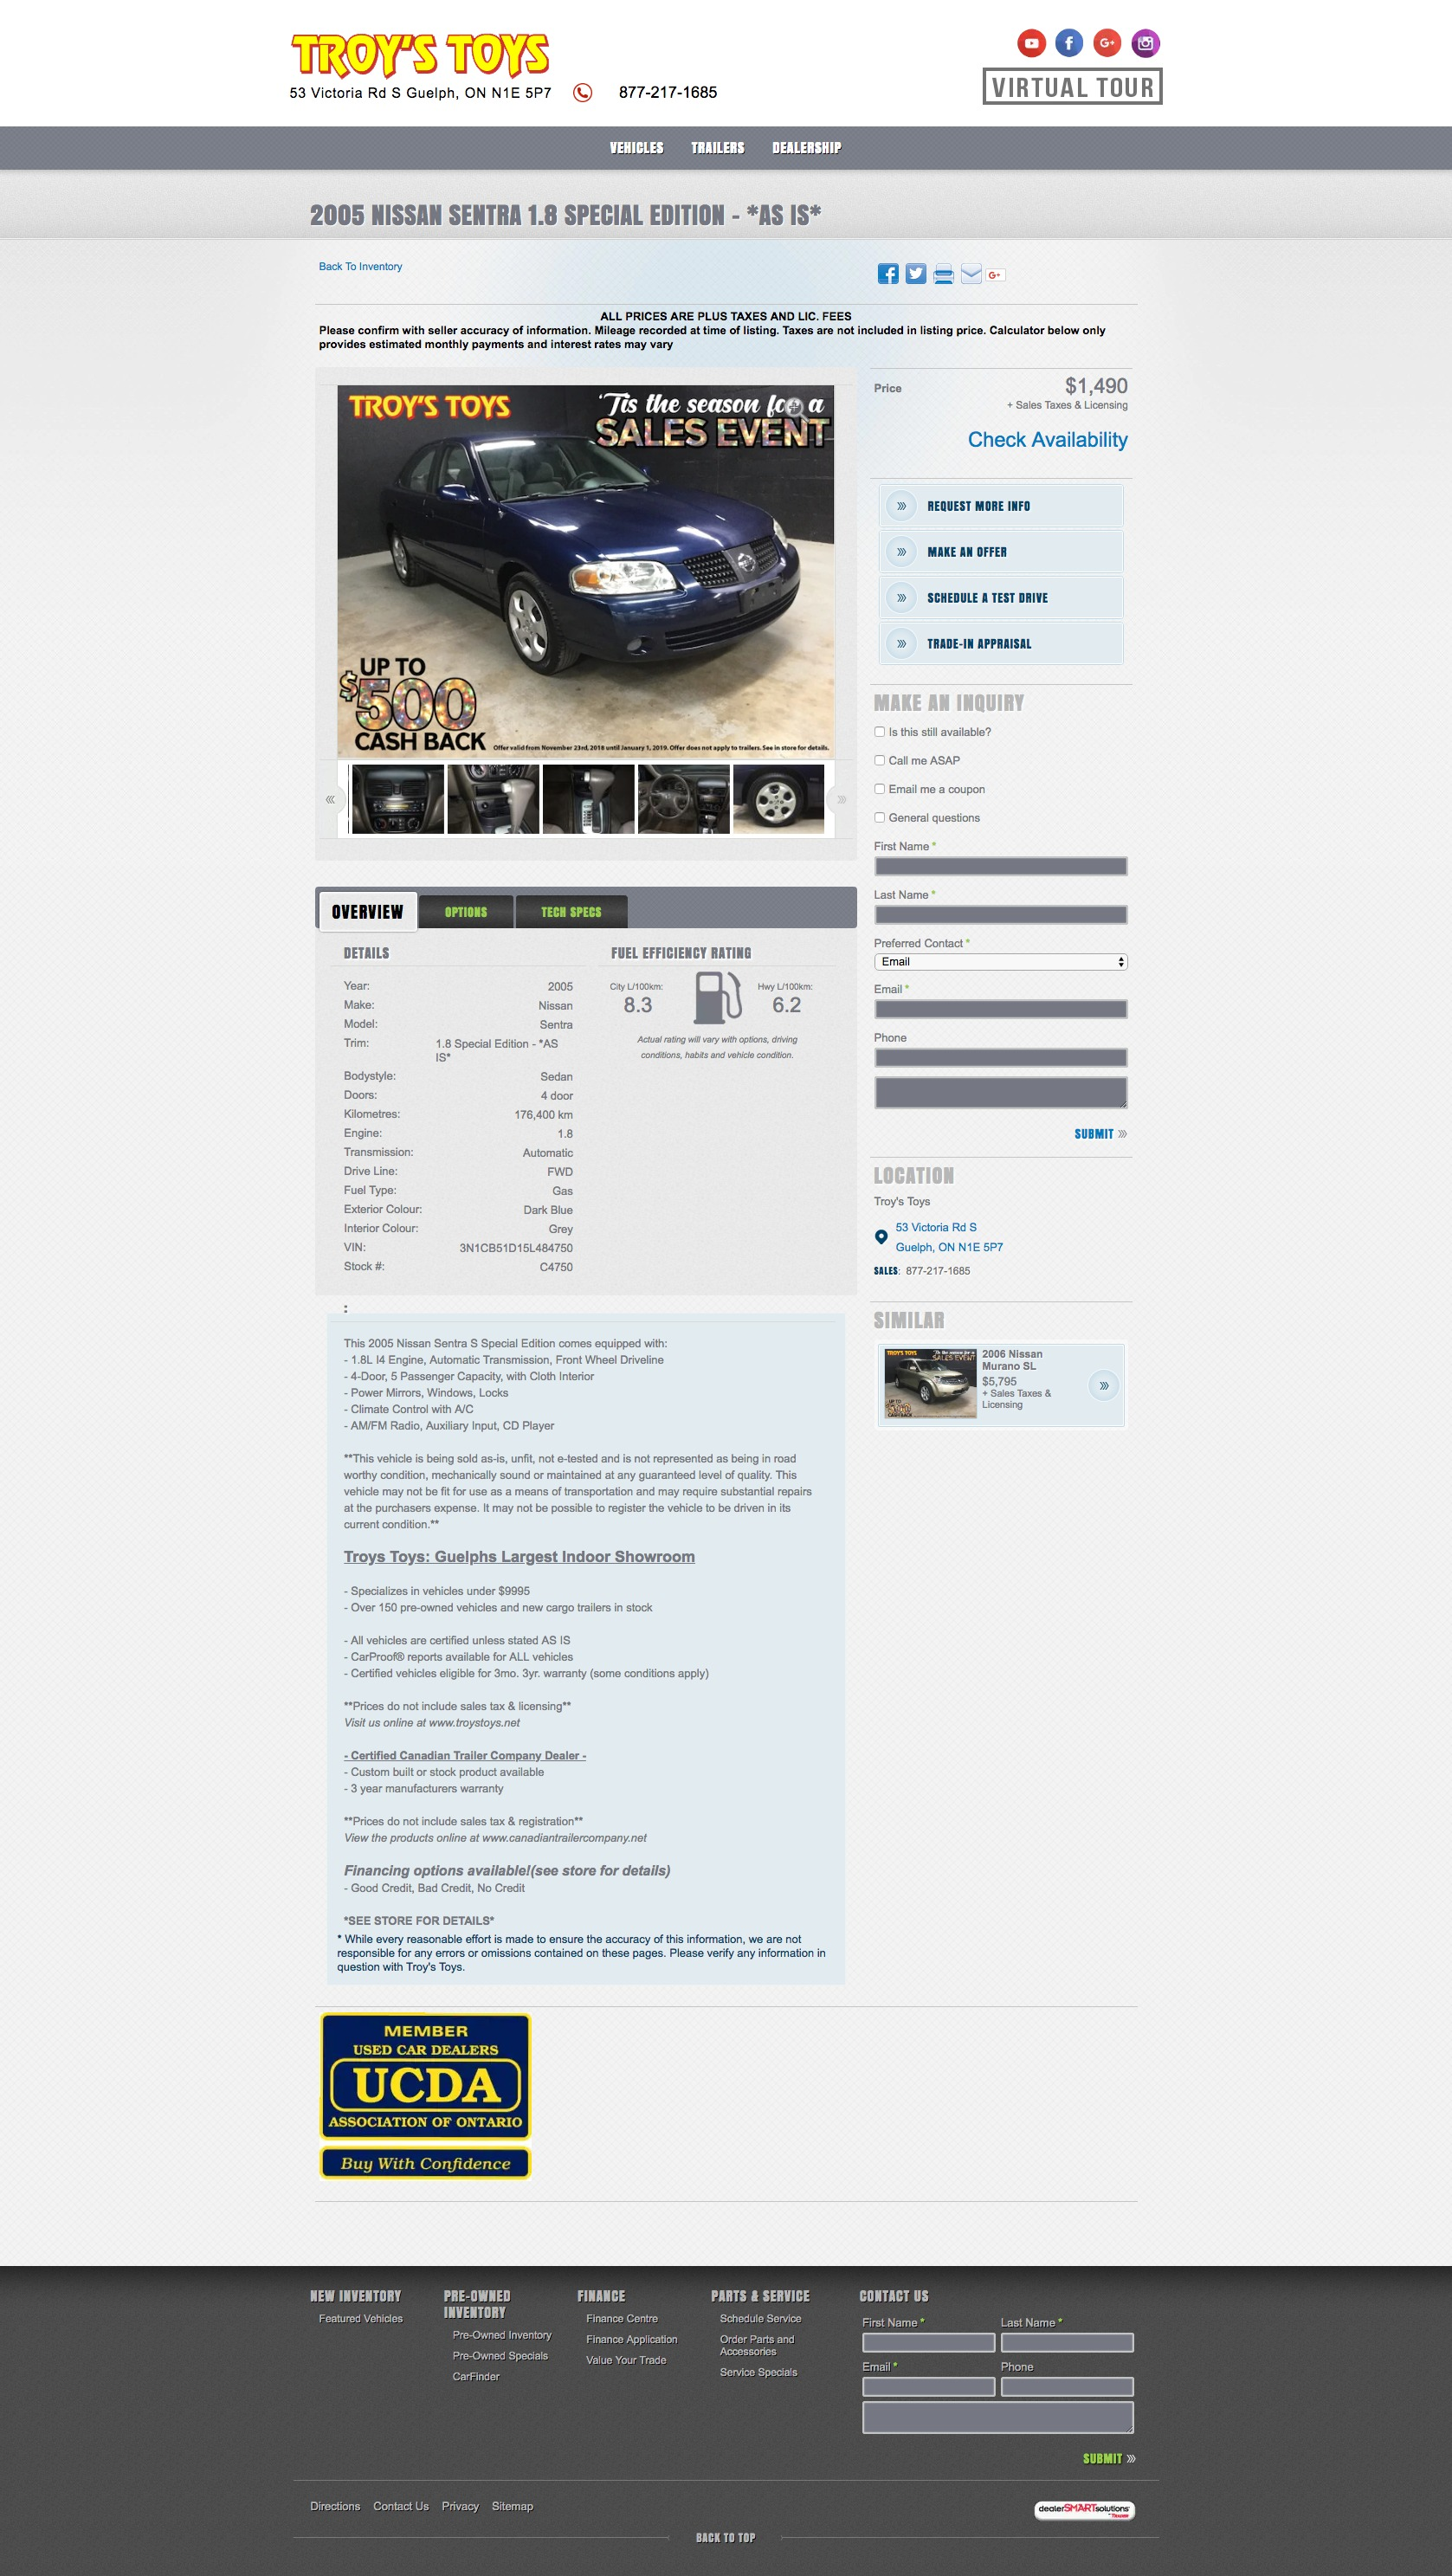car: (837, 794, 847, 805)
